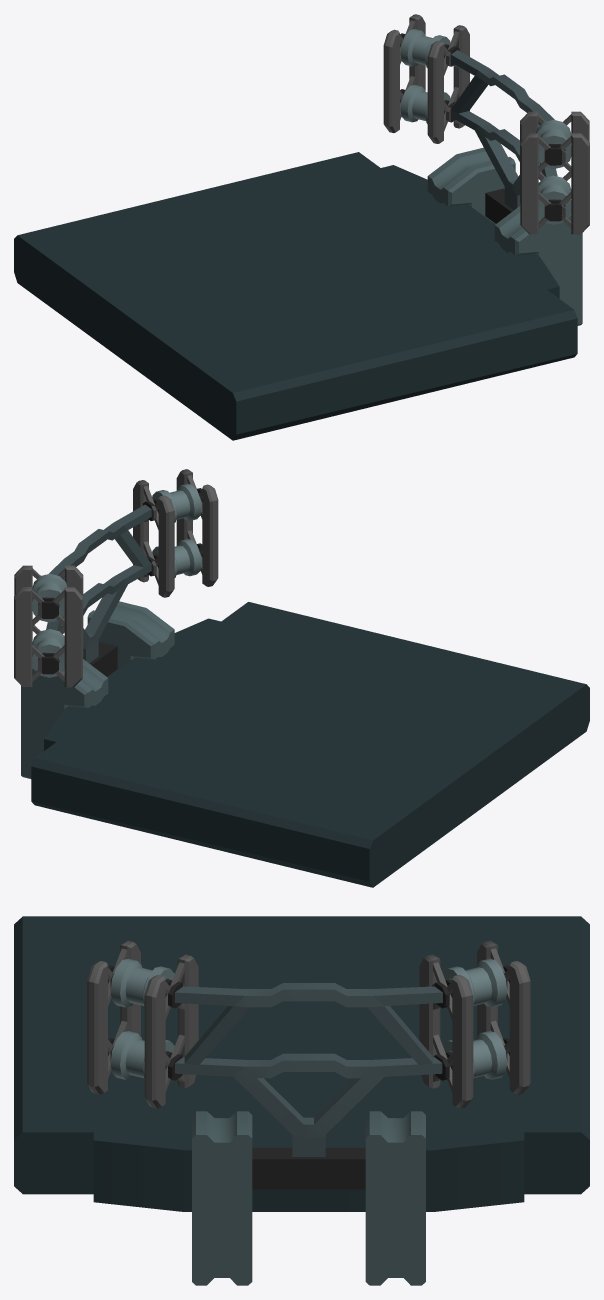
Rendered from SM_Elevator.fbx.
3 views of the same model, one above another, from view 1: azimuth 30°, elevation 25°; view 2: azimuth 150°, elevation 25°; view 3: azimuth 270°, elevation 25° (orthographic). The views are drawn at different scales.
Visible parts, largest first — view 1: SM_Elevator; view 2: SM_Elevator; view 3: SM_Elevator.
Part boxes in pixels (x1,y1,x2,y2): SM_Elevator: (14,14,589,440); SM_Elevator: (14,469,589,887); SM_Elevator: (14,916,589,1285).
Size of the model in its own units: 324 by 170 by 300.
1 material, 1 textured.
